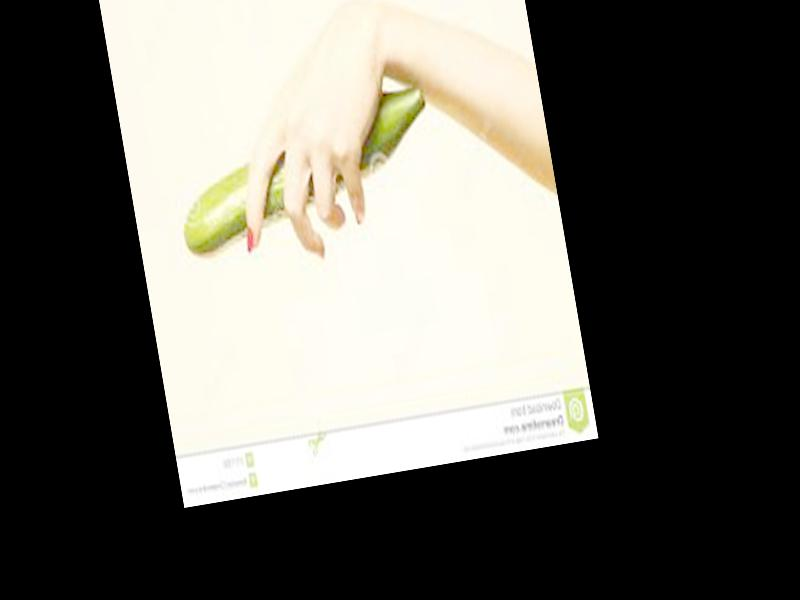Cucumber: (166, 86, 448, 262)
